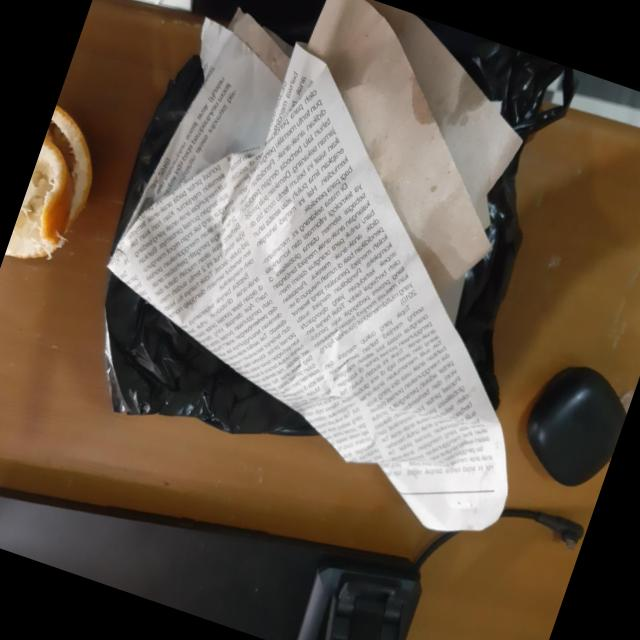Koran: (37, 0, 632, 563)
